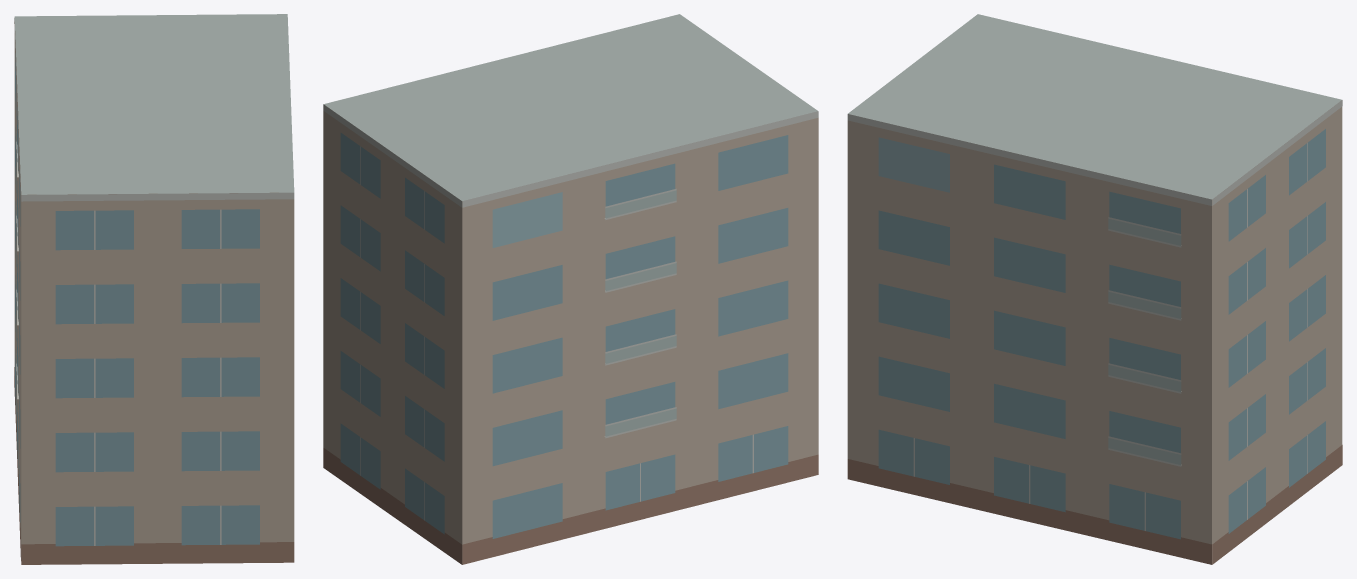
The model's file is survey-upis-32850379.glb.
3 views of the same model, side by side, from view 1: azimuth 30°, elevation 25°; view 2: azimuth 150°, elevation 25°; view 3: azimuth 270°, elevation 25° (orthographic).
Visible parts, largest first — view 1: survey-upis-32850379.tmp; view 2: survey-upis-32850379.tmp; view 3: survey-upis-32850379.tmp.
Part boxes in pixels (left/top/right/bottom): survey-upis-32850379.tmp: left=14, top=14, right=294, bottom=564; survey-upis-32850379.tmp: left=323, top=14, right=818, bottom=564; survey-upis-32850379.tmp: left=847, top=14, right=1342, bottom=564.
Size of the model in its own units: 14.77 by 13.55 by 16.64.
